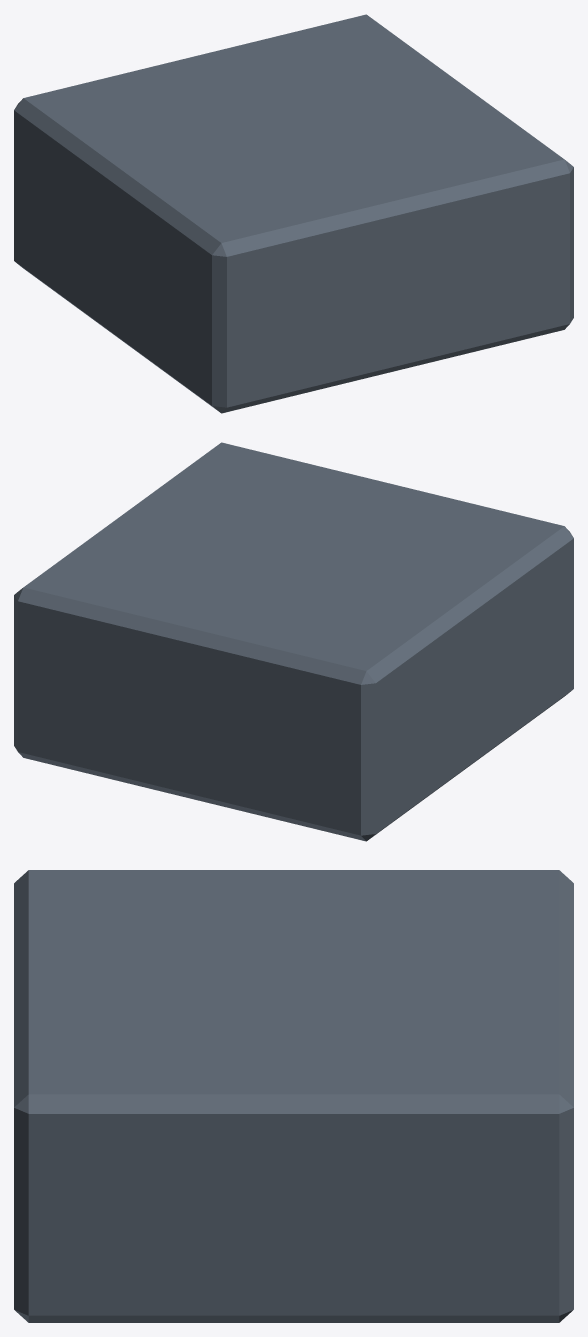
Rendered from coluna_b.glb.
The picture shows the model from 3 angles, top to bottom: view 1: azimuth 30°, elevation 25°; view 2: azimuth 150°, elevation 25°; view 3: azimuth 270°, elevation 25°; orthographic projection. The views are drawn at different scales.
Visible parts, largest first — view 1: pedreira_coluna_b; view 2: pedreira_coluna_b; view 3: pedreira_coluna_b.
Part boxes in pixels (x1,y1,x2,y2): pedreira_coluna_b: [14, 14, 573, 413]; pedreira_coluna_b: [14, 442, 573, 841]; pedreira_coluna_b: [14, 870, 573, 1322].
Size of the model in its own units: 1 by 0.45 by 1.
